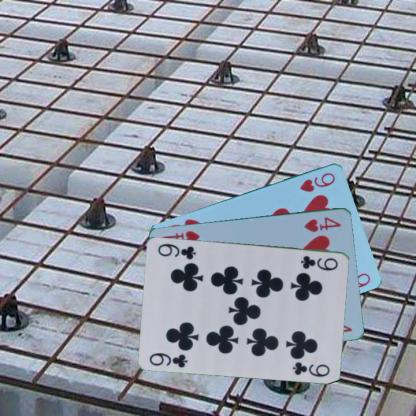4h: (302, 214, 342, 233)
9c: (298, 253, 340, 272), (147, 350, 189, 368)
9h: (297, 169, 337, 193)
